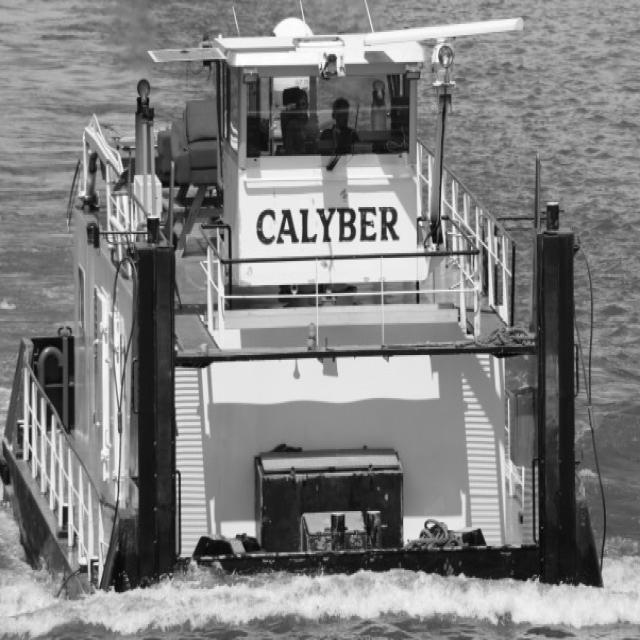tugboat: (1, 1, 615, 639)
